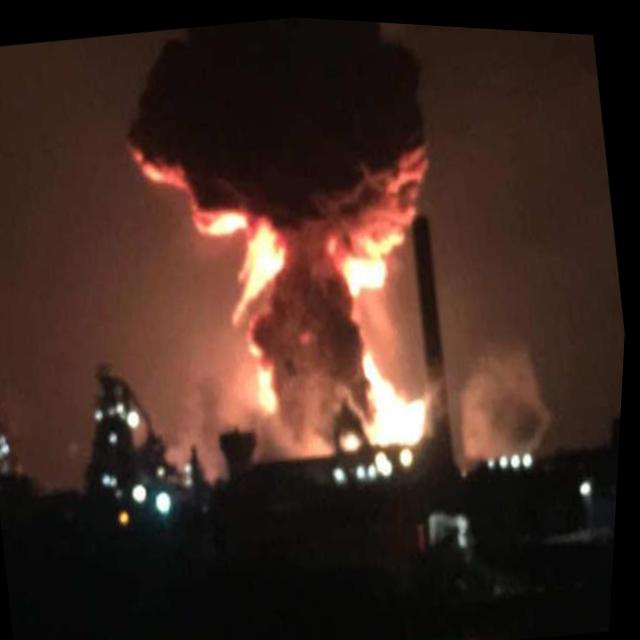fire: (195, 200, 305, 331), (356, 328, 443, 449), (330, 217, 419, 306), (246, 324, 289, 415), (336, 422, 372, 455)
